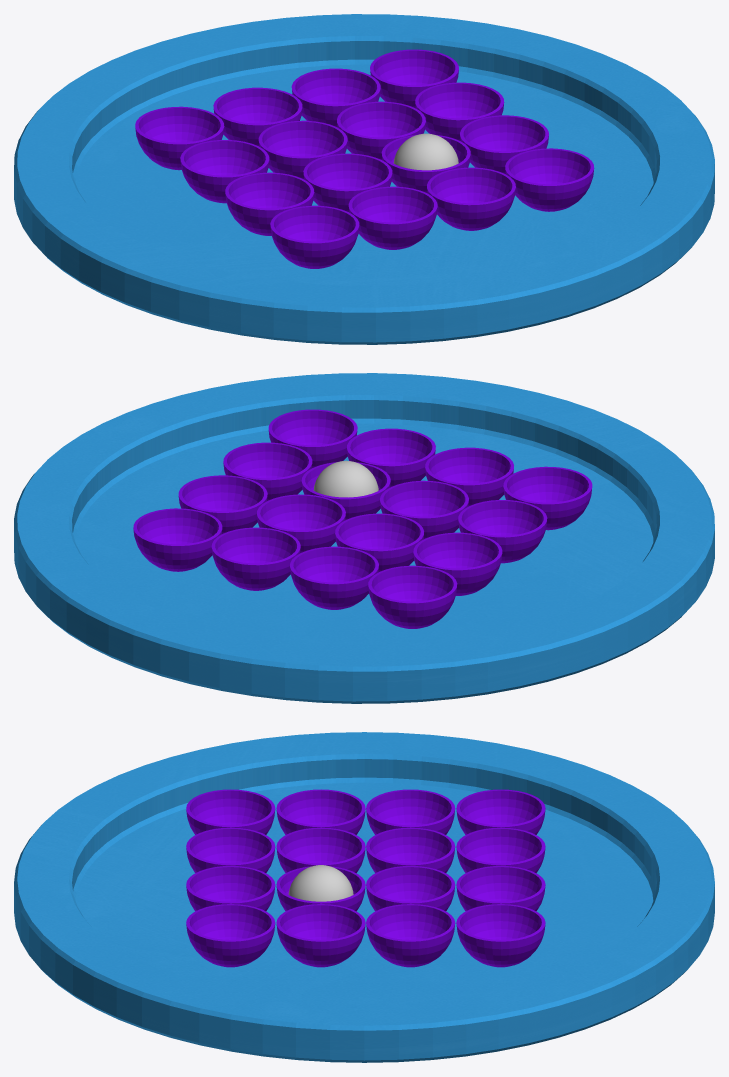
File: BrainVita7.fbx
The picture shows the model from 3 angles, top to bottom: view 1: azimuth 30°, elevation 25°; view 2: azimuth 150°, elevation 25°; view 3: azimuth 270°, elevation 25°; orthographic projection.
Visible parts, largest first — view 1: BackCylinder, 6.001, 2.001, 7.001, 1.001, 6, 6.007, 6.008, 7.007, 1.007, 7, 2.007 (+6 smaller); view 2: BackCylinder, 6.007, 2.007, 7.007, 1.007, 6.008, 6.001, 6, 7.008, 1.008, 2.008, 7.001 (+6 smaller); view 3: BackCylinder, 2.008, 2, 2.007, 2.001, 6.007, 6.001, 6.008, 7.007, 1.001, 1.008, 6 (+6 smaller).
Boxes of the visible parts, left/top/right/bottom form: BackCylinder: left=14, top=14, right=714, bottom=344; 6.001: left=270, top=205, right=359, bottom=268; 2.001: left=505, top=148, right=594, bottom=211; 7.001: left=348, top=186, right=437, bottom=249; 1.001: left=427, top=167, right=515, bottom=230; 6: left=225, top=172, right=314, bottom=235; 6.007: left=135, top=106, right=224, bottom=170; 6.008: left=180, top=140, right=269, bottom=203; 7.007: left=213, top=87, right=302, bottom=146; 1.007: left=291, top=68, right=380, bottom=127; 7: left=303, top=153, right=392, bottom=212; 2.007: left=370, top=49, right=458, bottom=108; BackCylinder: left=14, top=373, right=714, bottom=703; 6.007: left=368, top=565, right=457, bottom=628; 2.007: left=133, top=508, right=222, bottom=571; 7.007: left=290, top=546, right=378, bottom=609; 1.007: left=211, top=527, right=300, bottom=590; 6.008: left=413, top=532, right=502, bottom=595; 6.001: left=503, top=466, right=592, bottom=530; 6: left=458, top=500, right=547, bottom=563; 7.008: left=335, top=513, right=423, bottom=572; 1.008: left=257, top=494, right=345, bottom=553; 2.008: left=178, top=475, right=267, bottom=533; 7.001: left=425, top=447, right=513, bottom=506; BackCylinder: left=14, top=732, right=714, bottom=1062; 2.008: left=366, top=904, right=455, bottom=967; 2: left=276, top=904, right=365, bottom=967; 2.007: left=456, top=904, right=545, bottom=967; 2.001: left=186, top=904, right=275, bottom=967; 6.007: left=456, top=789, right=545, bottom=834; 6.001: left=186, top=789, right=275, bottom=834; 6.008: left=366, top=789, right=455, bottom=834; 7.007: left=456, top=827, right=545, bottom=873; 1.001: left=186, top=866, right=275, bottom=911; 1.008: left=366, top=866, right=455, bottom=911; 6: left=276, top=789, right=365, bottom=834.
Bounding box in the file's own units: 1.71 × 0.1816 × 1.71.
